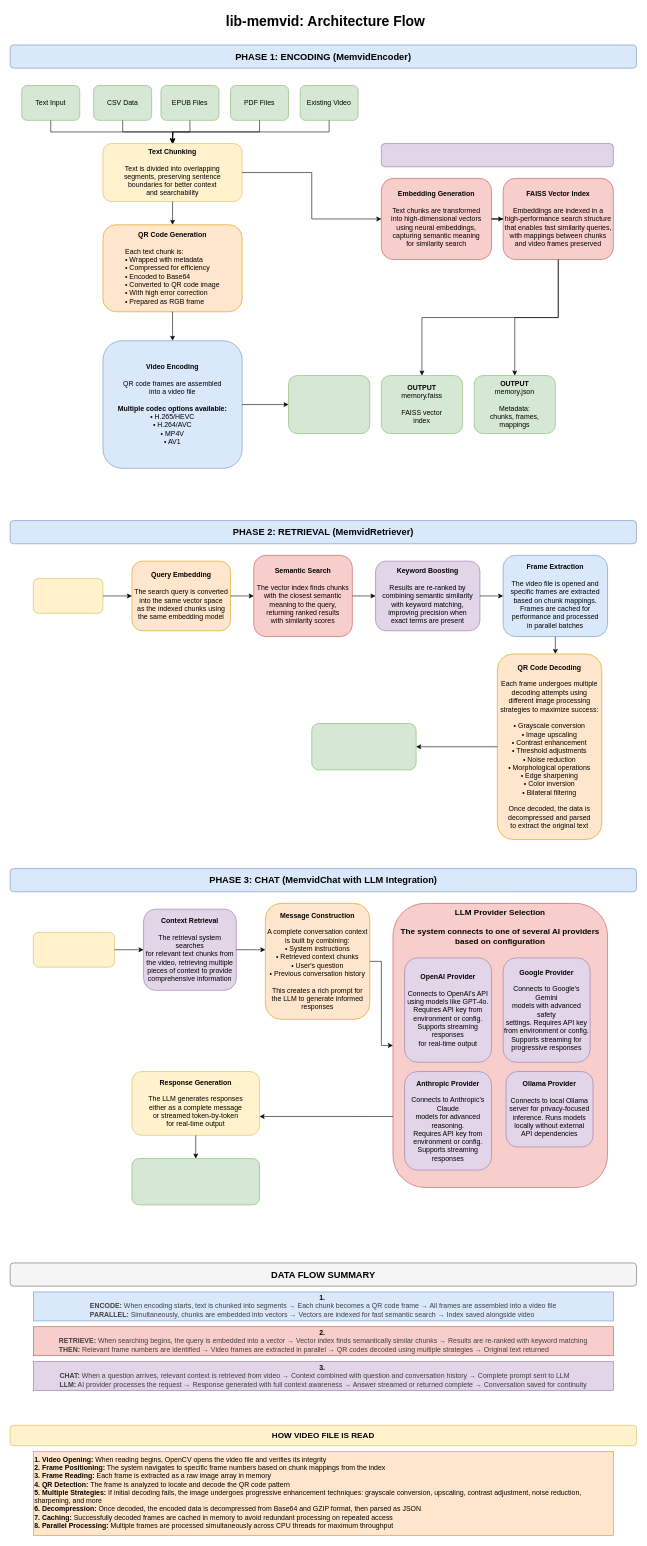
The diagram is 647 pixels wide and 1546 high, and some of its shapes have lost their labels. The box of each missing label's shape, as (x1, y1, x2, y2) in pixels:
AI Response Contextual answer based on retrieved video content: (131, 1158, 260, 1205)
OUTPUT memory.mp4/.mkv/.avi QR Code Frames encoded as video: (288, 375, 370, 434)
PARALLEL PROCESSING: (381, 143, 613, 167)
Retrieved Text Chunks Top-K most relevant chunks with scores: (311, 723, 416, 770)
User Query "Search text": (33, 578, 103, 613)
User Question "Ask about content": (33, 932, 115, 967)
